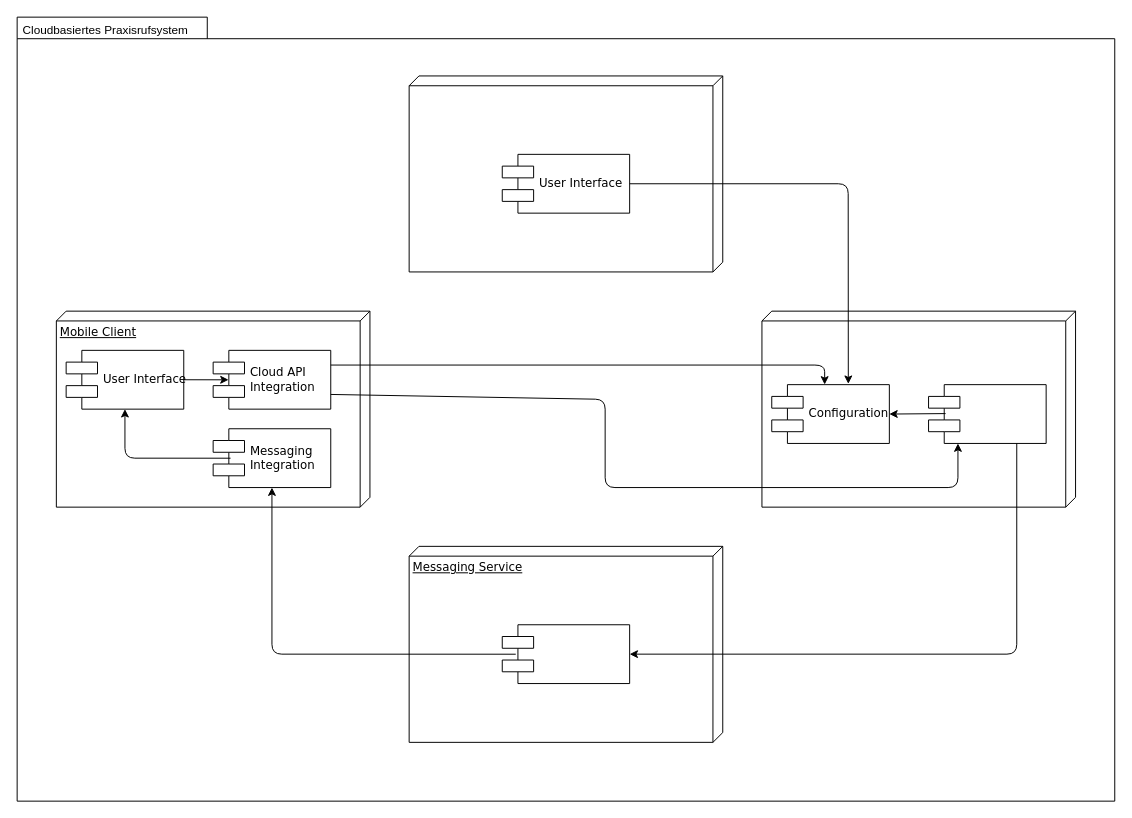
Some shapes in this 1132 by 818 pixel diagram are drawn without their labels. Here are the shapes that lost their labels. From the top down, the box of each, then its label:
(408, 75, 723, 272): Admin UI
(761, 310, 1076, 507): Cloud Service
(928, 384, 1046, 443): Notification
(501, 624, 630, 684): Messaging
